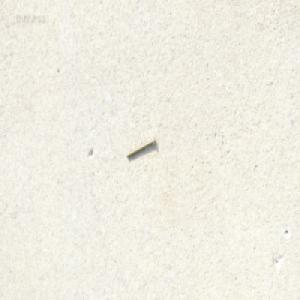Bolt: (126, 136, 155, 158)
